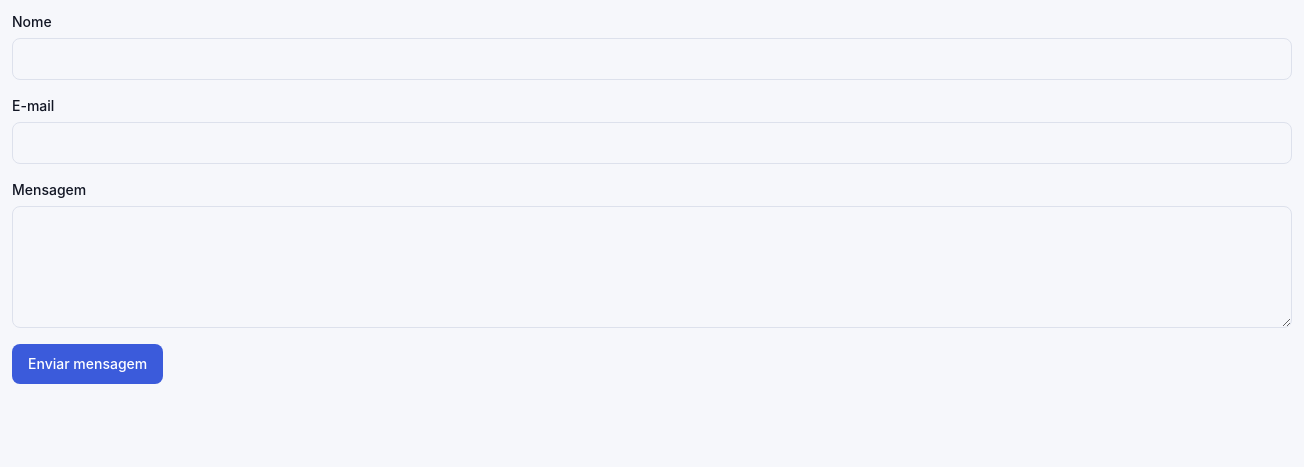
Test case: <ContactForm /> › mostra mensagens específicas por campo e não envia dados inválidos
Type "invalido" into the field labelled "E-mail" at x=652, y=143, box [12, 122, 1292, 164]
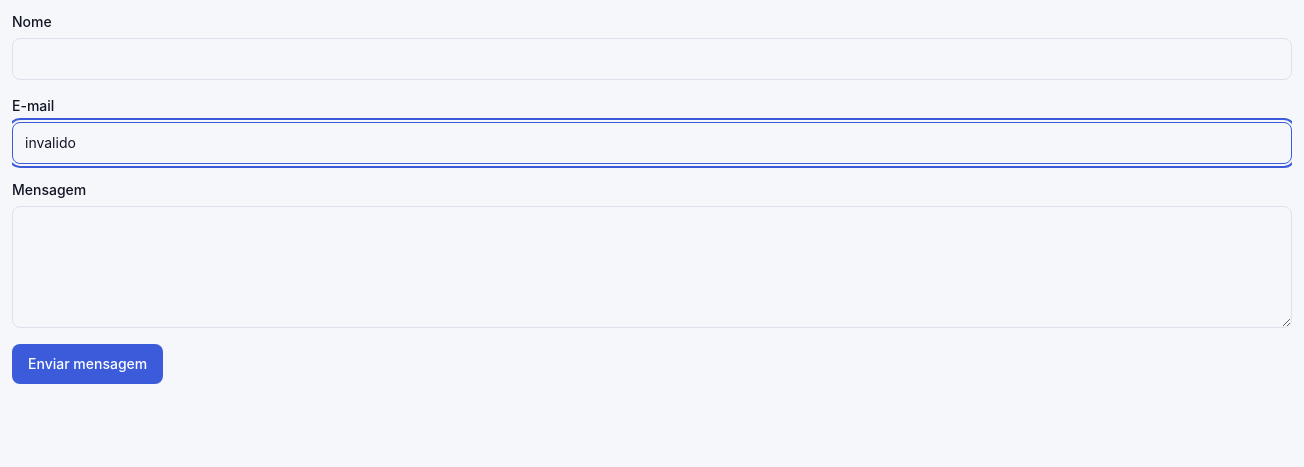
Type "curta" into the text box labelled "Mensagem" at x=652, y=267, box [12, 206, 1292, 328]
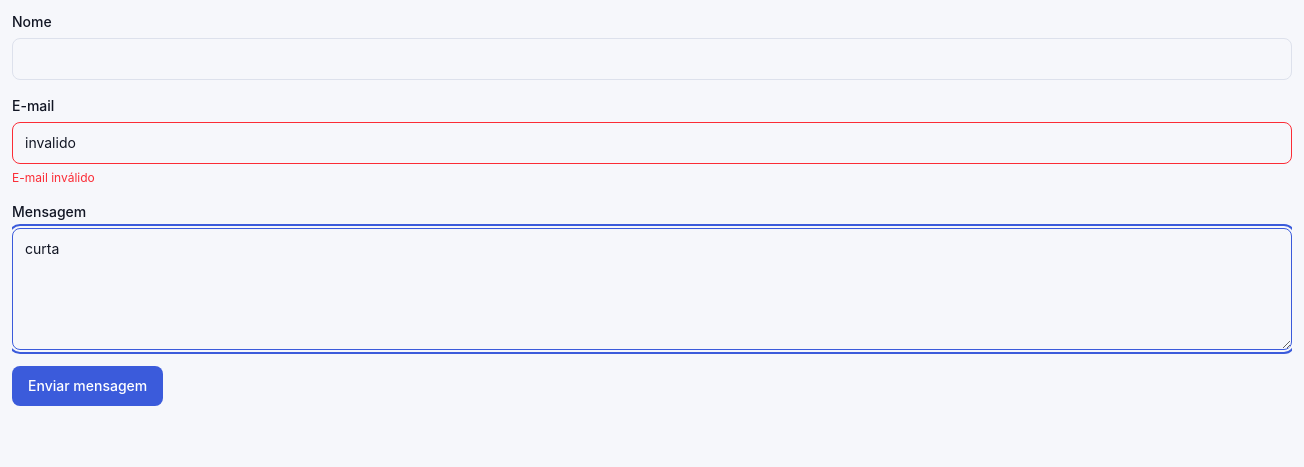
Click the button "Enviar mensagem" at x=88, y=386, box [12, 366, 163, 406]
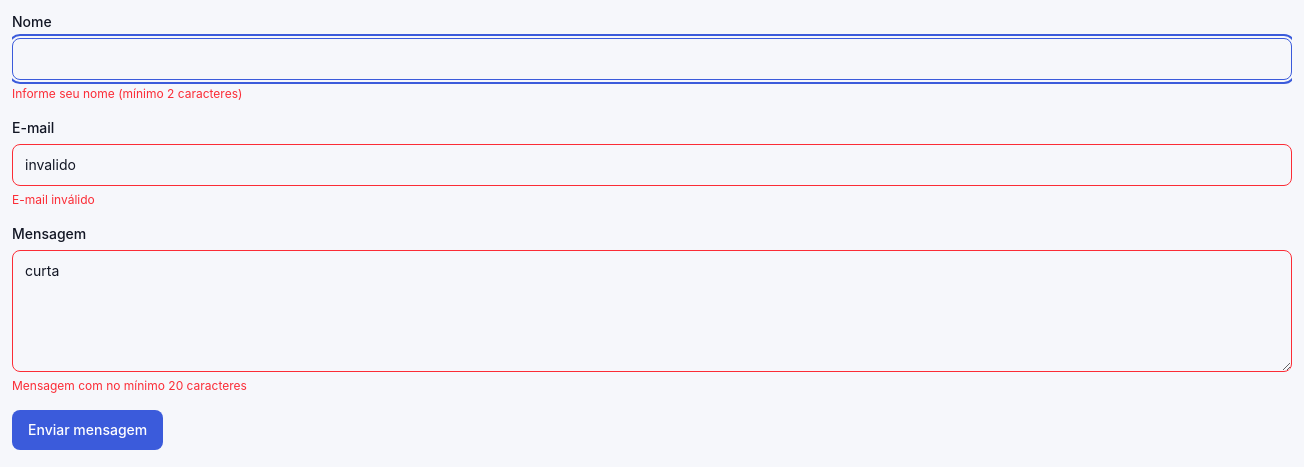
Check: the text "E-mail inválido" is shown, box [12, 192, 95, 207]
Check: the text "Mensagem com no mínimo 20 caracteres" is shown, box [12, 378, 247, 393]
